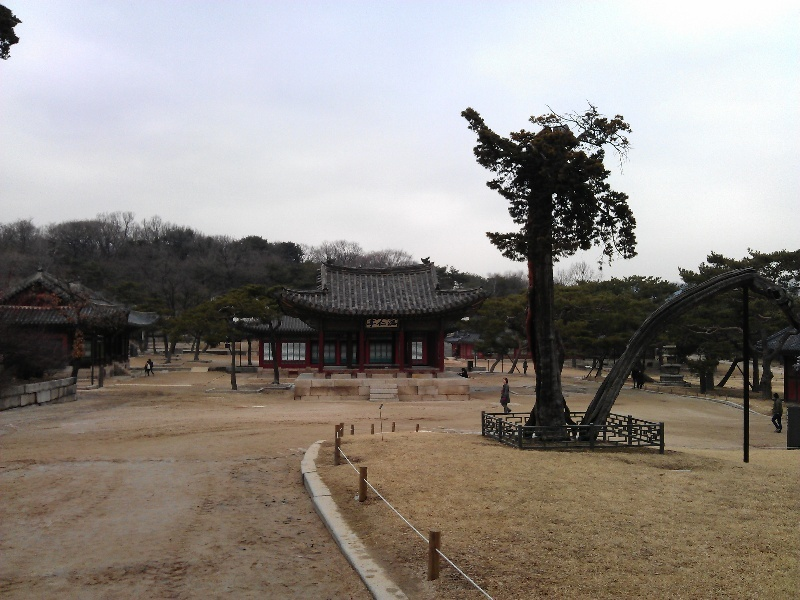text: (369, 320, 384, 328), (385, 320, 398, 328), (367, 320, 368, 328)
